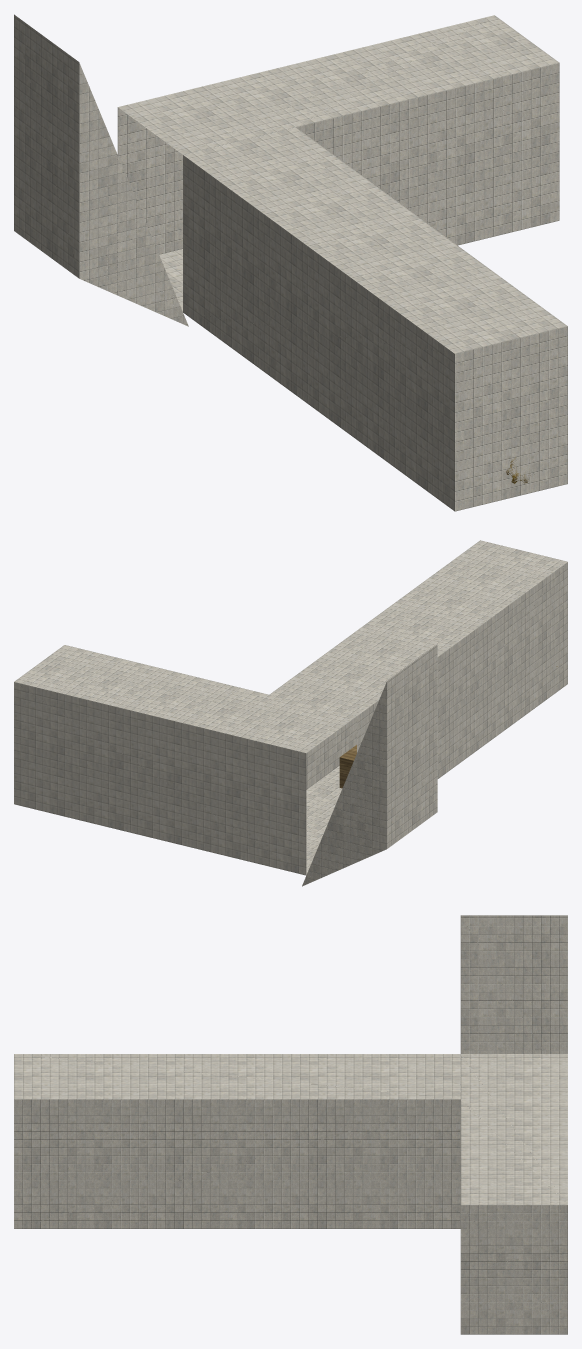
File: hallway.fbx
The picture shows the model from 3 angles, top to bottom: view 1: azimuth 30°, elevation 25°; view 2: azimuth 150°, elevation 25°; view 3: azimuth 270°, elevation 25°; orthographic projection. The views are drawn at different scales.
Parts seen in each view (by area): view 1: Plane001, StraightStair001; view 2: Plane001, StraightStair001; view 3: Plane001, StraightStair001.
Part boxes in pixels (x1=…): Plane001: x1=117, y1=15, x2=567, y2=511; StraightStair001: x1=14, y1=14, x2=188, y2=326; Plane001: x1=14, y1=540, x2=567, y2=875; StraightStair001: x1=302, y1=644, x2=437, y2=886; Plane001: x1=14, y1=1054, x2=567, y2=1334; StraightStair001: x1=460, y1=915, x2=567, y2=1053.
Bounding box in the file's own units: 12.76 × 7.39 × 15.5.
